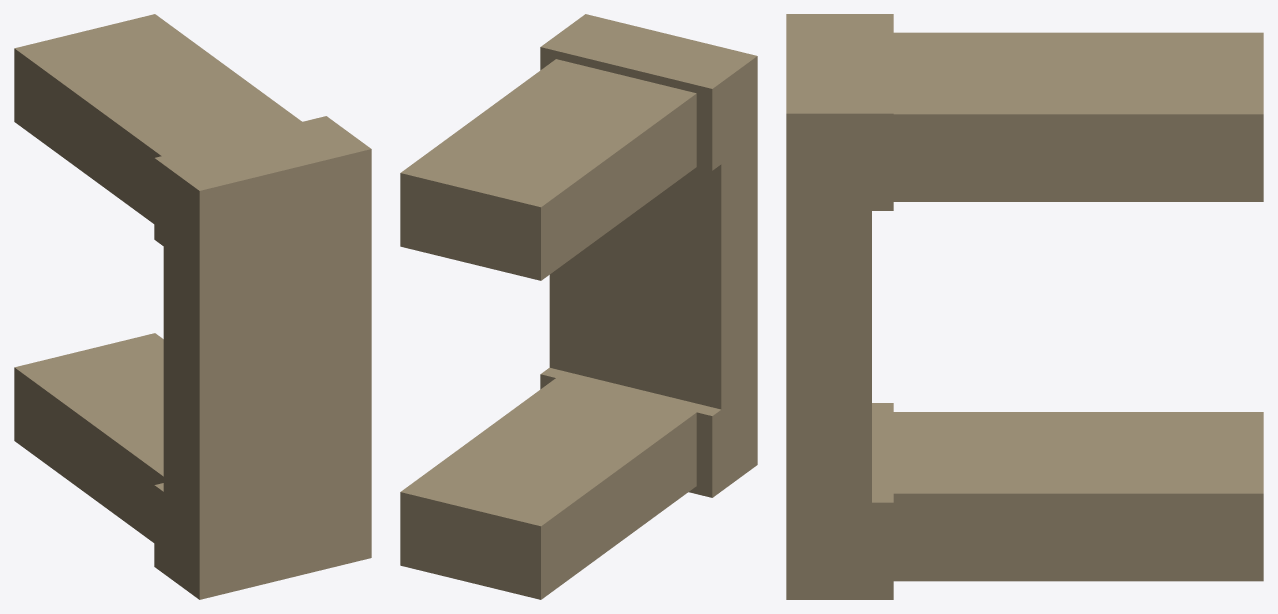
The model's file is KotelApproach_AboveWallPortal_V2.obj.
The picture shows the model from 3 angles, left to right: view 1: azimuth 30°, elevation 25°; view 2: azimuth 150°, elevation 25°; view 3: azimuth 270°, elevation 25°; orthographic projection. The views are drawn at different scales.
Parts seen in each view (by area): view 1: KotelApproach_AboveWallPortal_V2; view 2: KotelApproach_AboveWallPortal_V2; view 3: KotelApproach_AboveWallPortal_V2.
Part boxes in pixels (x1,y1,x2,y2): KotelApproach_AboveWallPortal_V2: [14, 14, 371, 599]; KotelApproach_AboveWallPortal_V2: [400, 14, 757, 599]; KotelApproach_AboveWallPortal_V2: [786, 14, 1263, 599].
Size of the model in its own units: 2.2 by 5 by 4.45.
